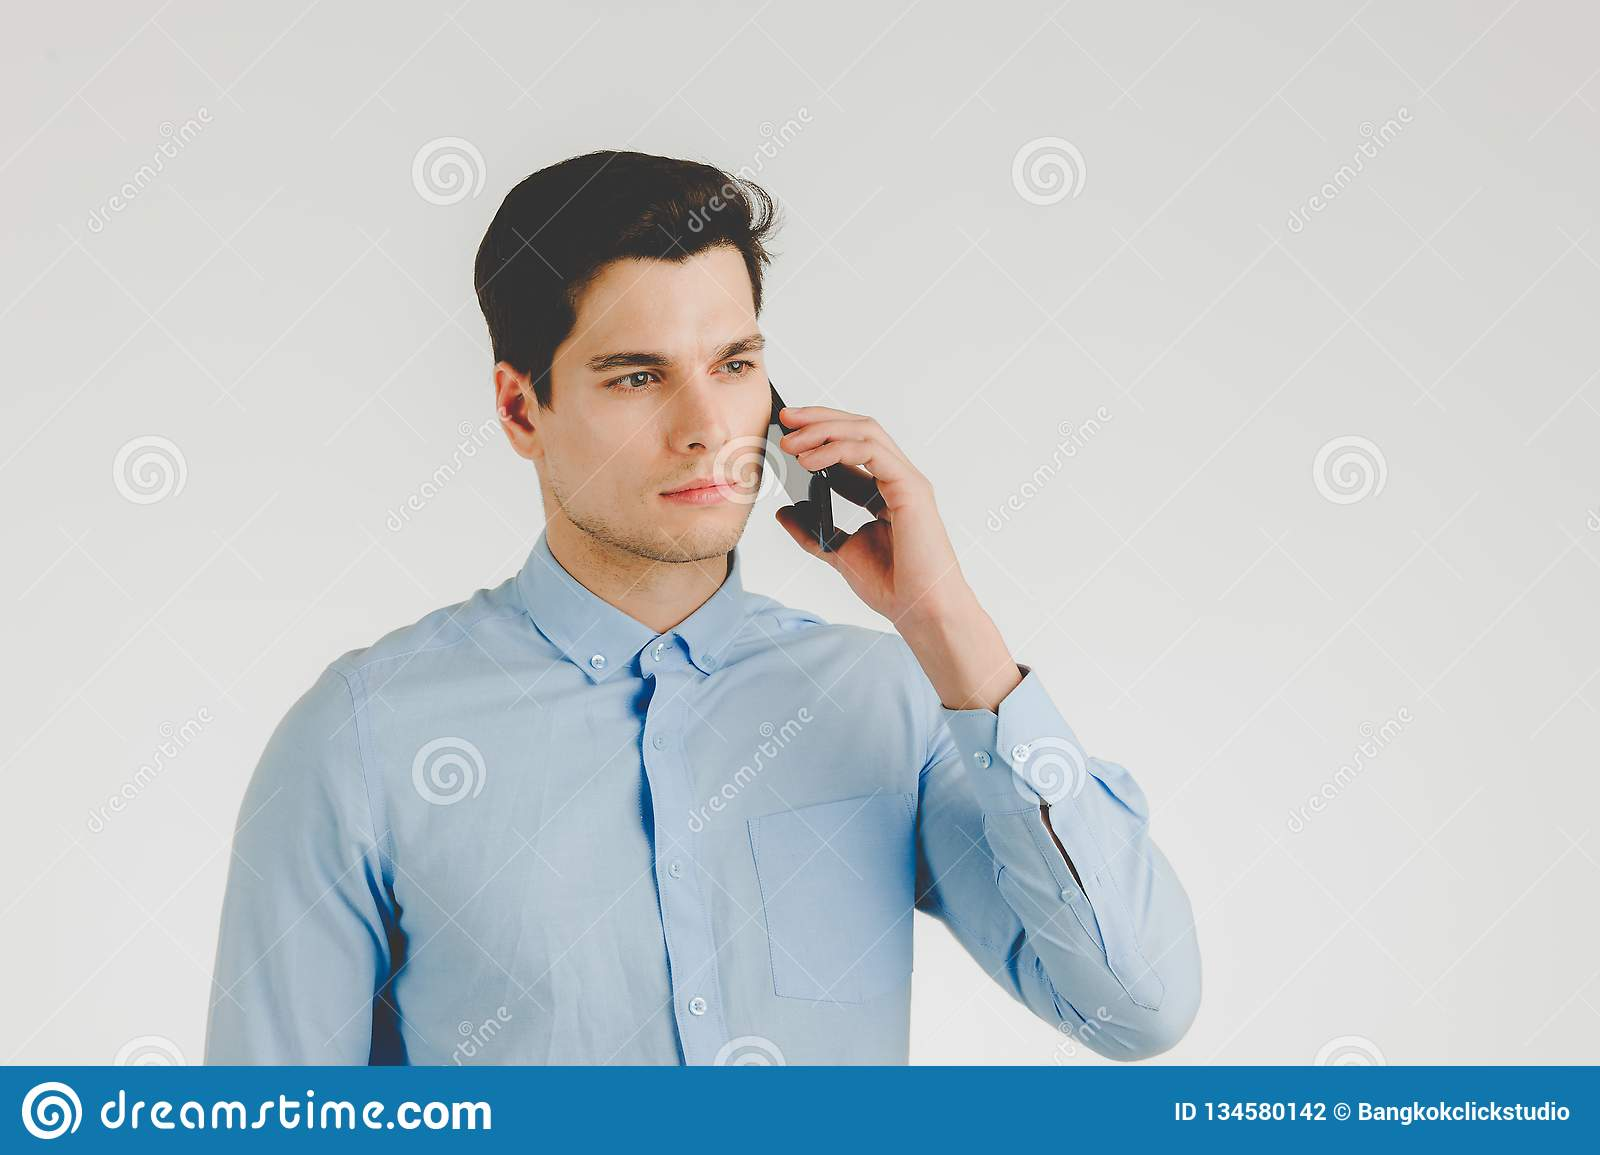phone: (753, 378, 848, 570)
talk: (581, 324, 947, 627)
